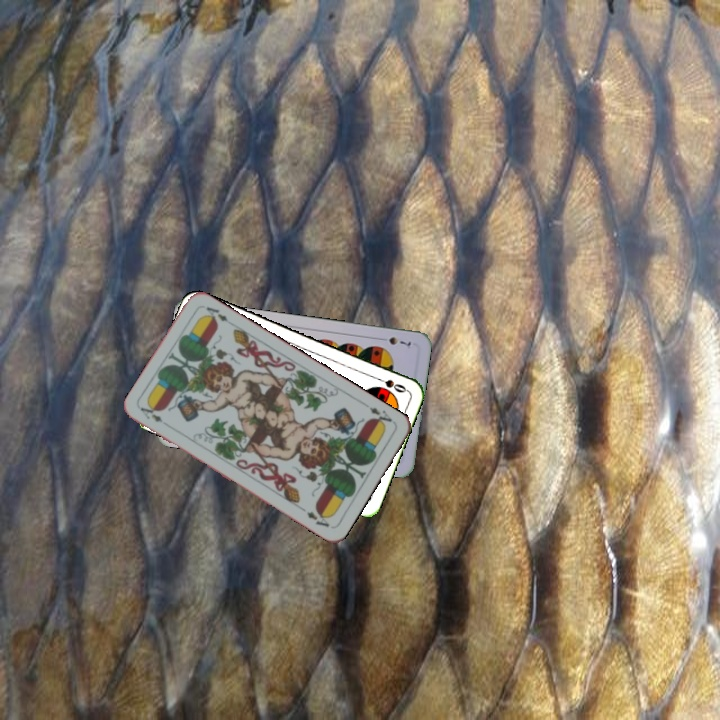EA: (361, 399, 394, 430), (136, 403, 173, 430)
S7: (375, 333, 415, 349)
SO: (370, 373, 409, 395)
